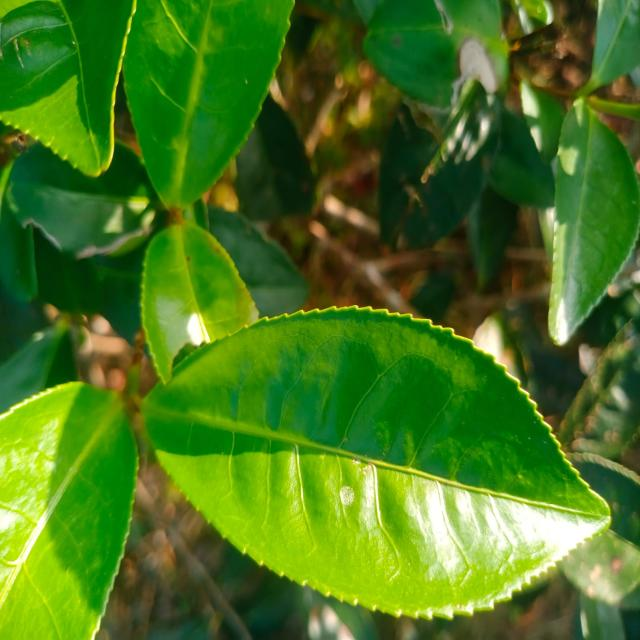Category D(7+ days, Not for Tea): (129, 298, 634, 609)
